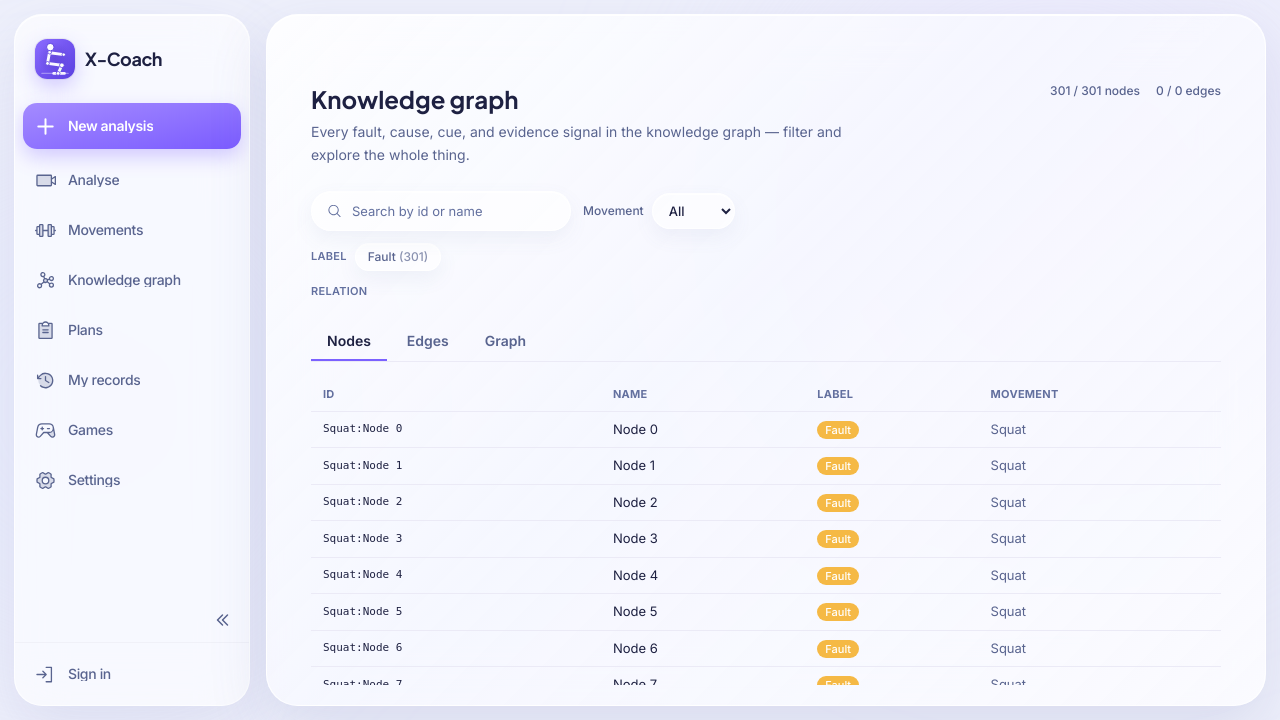
KnowledgeGraph page › shows a too-many-nodes message instead of drawing past 300
expect the text "301 / 301 nodes" is shown: met, box [1050,83,1140,99]
Click the tab "Graph" at point(505, 342), box [469,323,542,361]
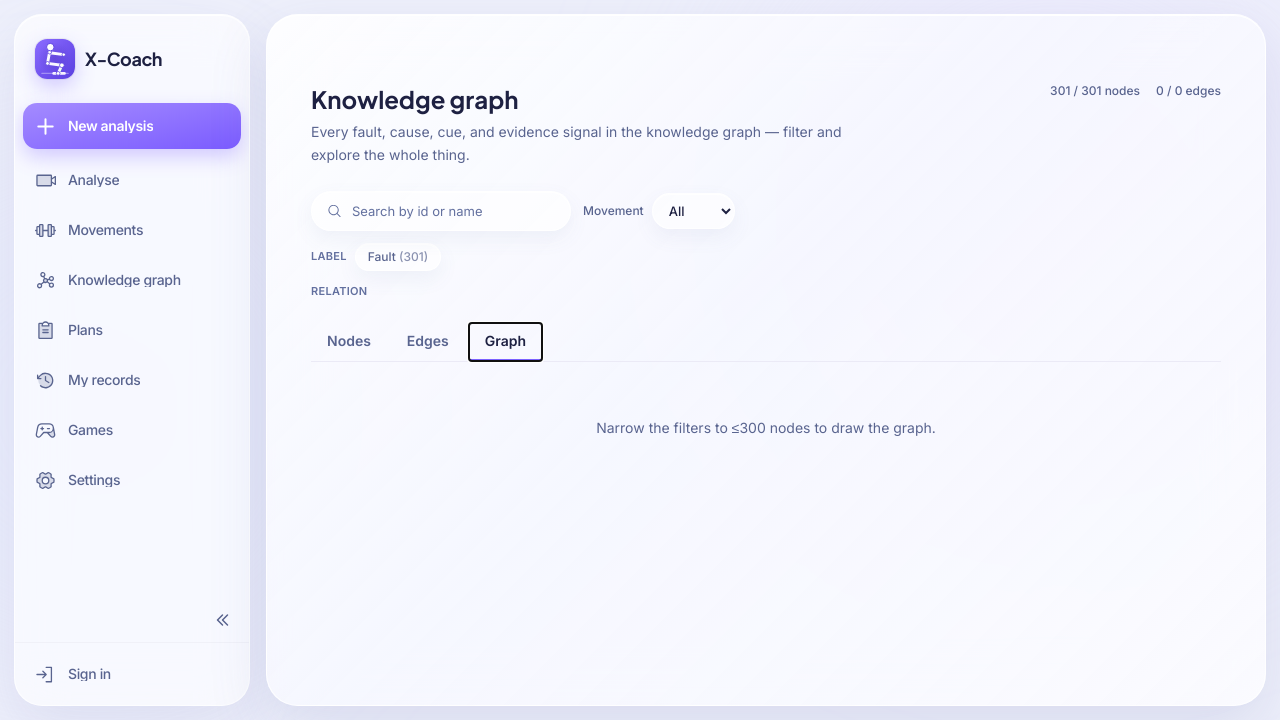
expect the text "Narrow the filters to ≤300 nodes to draw the graph." is shown: met, box [596,419,936,436]
